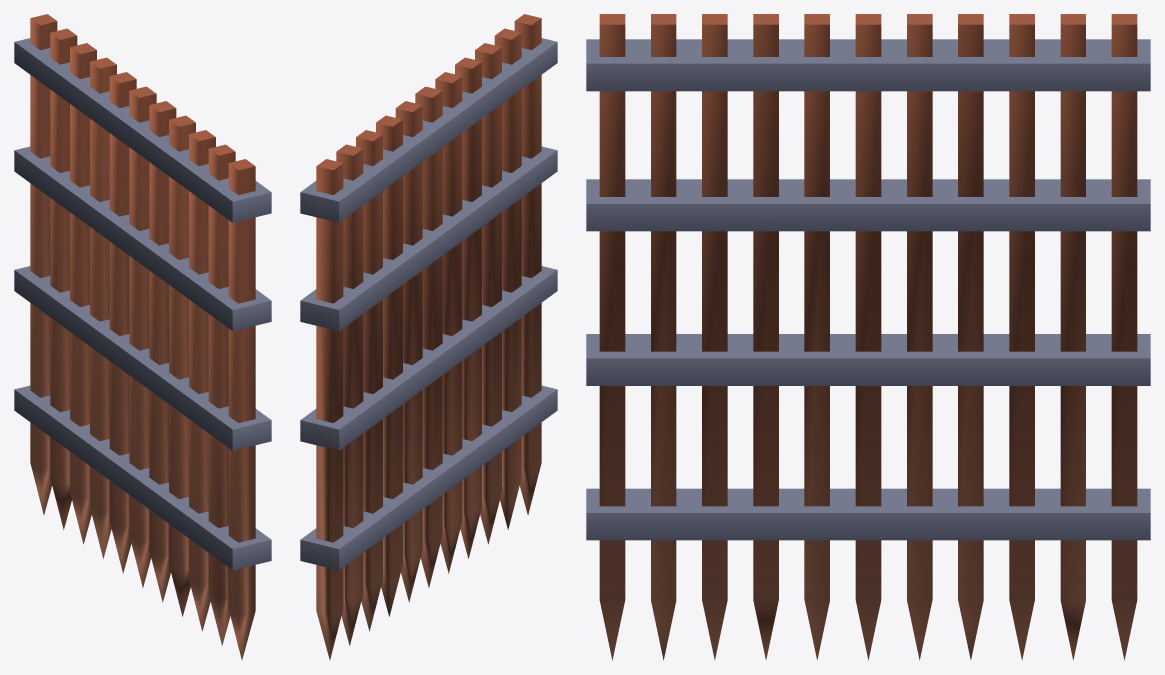
Rendered from metal-gate.fbx.
The picture shows the model from 3 angles, left to right: view 1: azimuth 30°, elevation 25°; view 2: azimuth 150°, elevation 25°; view 3: azimuth 270°, elevation 25°; orthographic projection. The views are drawn at different scales.
Parts seen in each view (by area): view 1: metal-gate; view 2: metal-gate; view 3: metal-gate.
Boxes of the visible parts, x1,y1,x2,y2 form: metal-gate: [14, 14, 271, 659]; metal-gate: [300, 14, 557, 659]; metal-gate: [586, 14, 1150, 660].
Bounding box in the file's own units: 0.0714 × 0.6953 × 0.8718.
